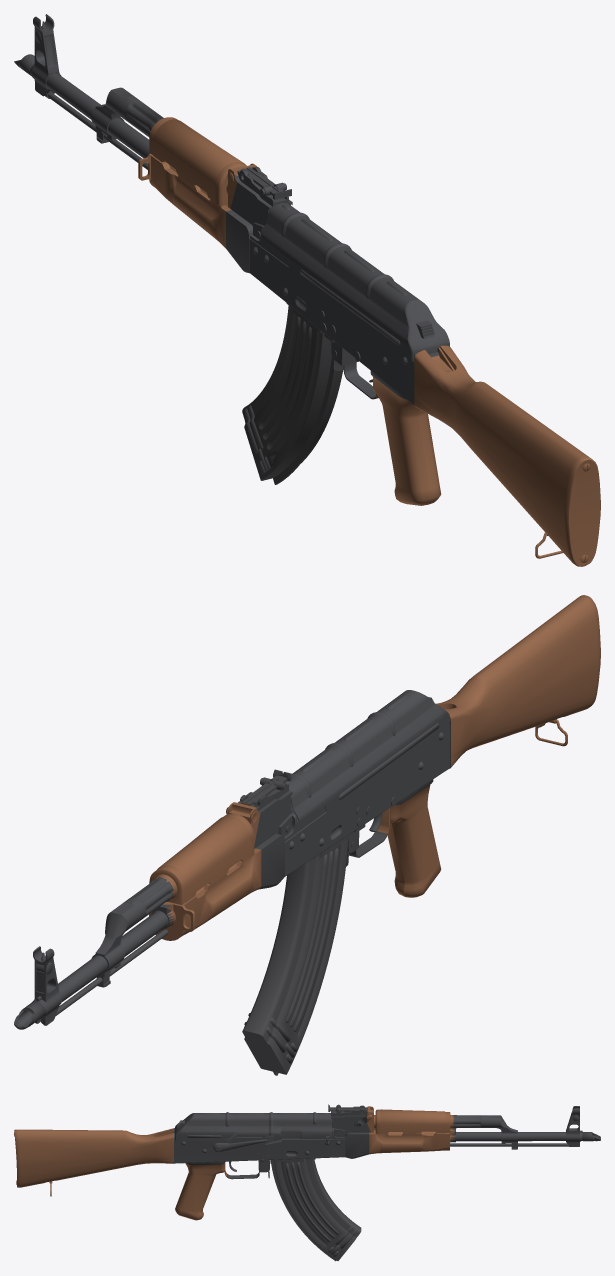
The model's file is w_akm.glb.
The picture shows the model from 3 angles, top to bottom: view 1: azimuth 30°, elevation 25°; view 2: azimuth 150°, elevation 25°; view 3: azimuth 270°, elevation 25°; orthographic projection. The views are drawn at different scales.
Parts seen in each view (by area): view 1: body, mag; view 2: body, mag; view 3: body, mag.
Part boxes in pixels (box(x1,y1,x2,y2)): body: box(14, 14, 600, 566); mag: box(242, 303, 342, 484); body: box(14, 595, 600, 1029); mag: box(242, 834, 349, 1075); body: box(14, 1104, 600, 1220); mag: box(270, 1158, 361, 1261).
Bounding box in the file's own units: 0.0568 × 0.2557 × 0.88.
